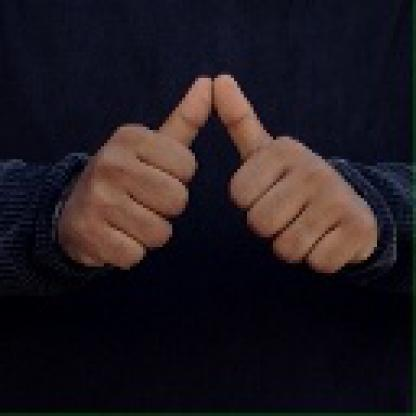A: (61, 74, 386, 288)
